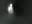person: (8, 4, 15, 18)
